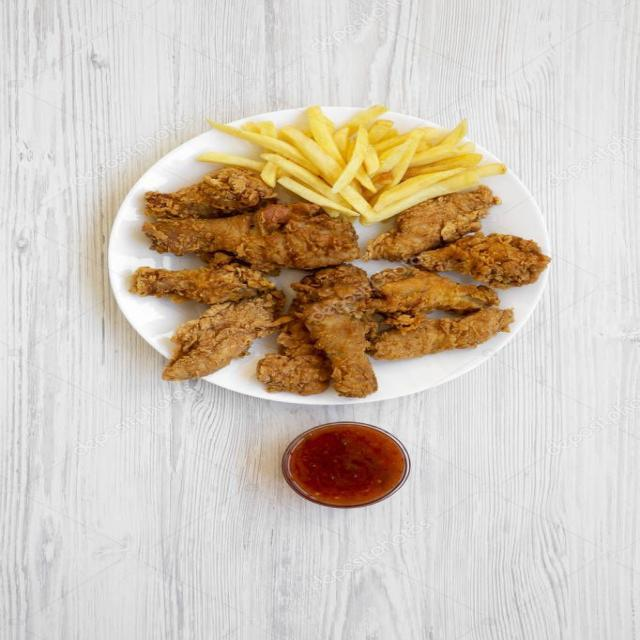ga ran va khoai tay chien: (116, 108, 548, 395)
khoai tay chien: (214, 114, 508, 210)
thit ga: (294, 266, 499, 389), (118, 177, 356, 274), (247, 302, 413, 395), (139, 269, 270, 383), (437, 244, 561, 296)
